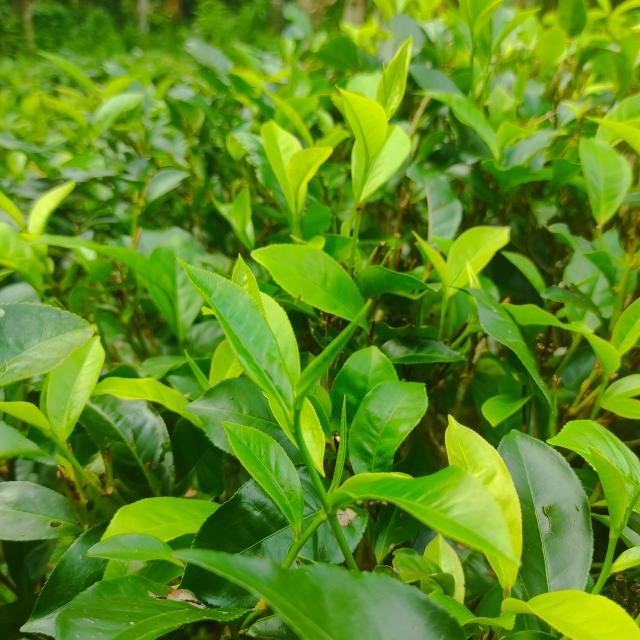unopened_leaf: (287, 294, 379, 416), (314, 390, 357, 506), (178, 342, 216, 392), (377, 58, 394, 112)
